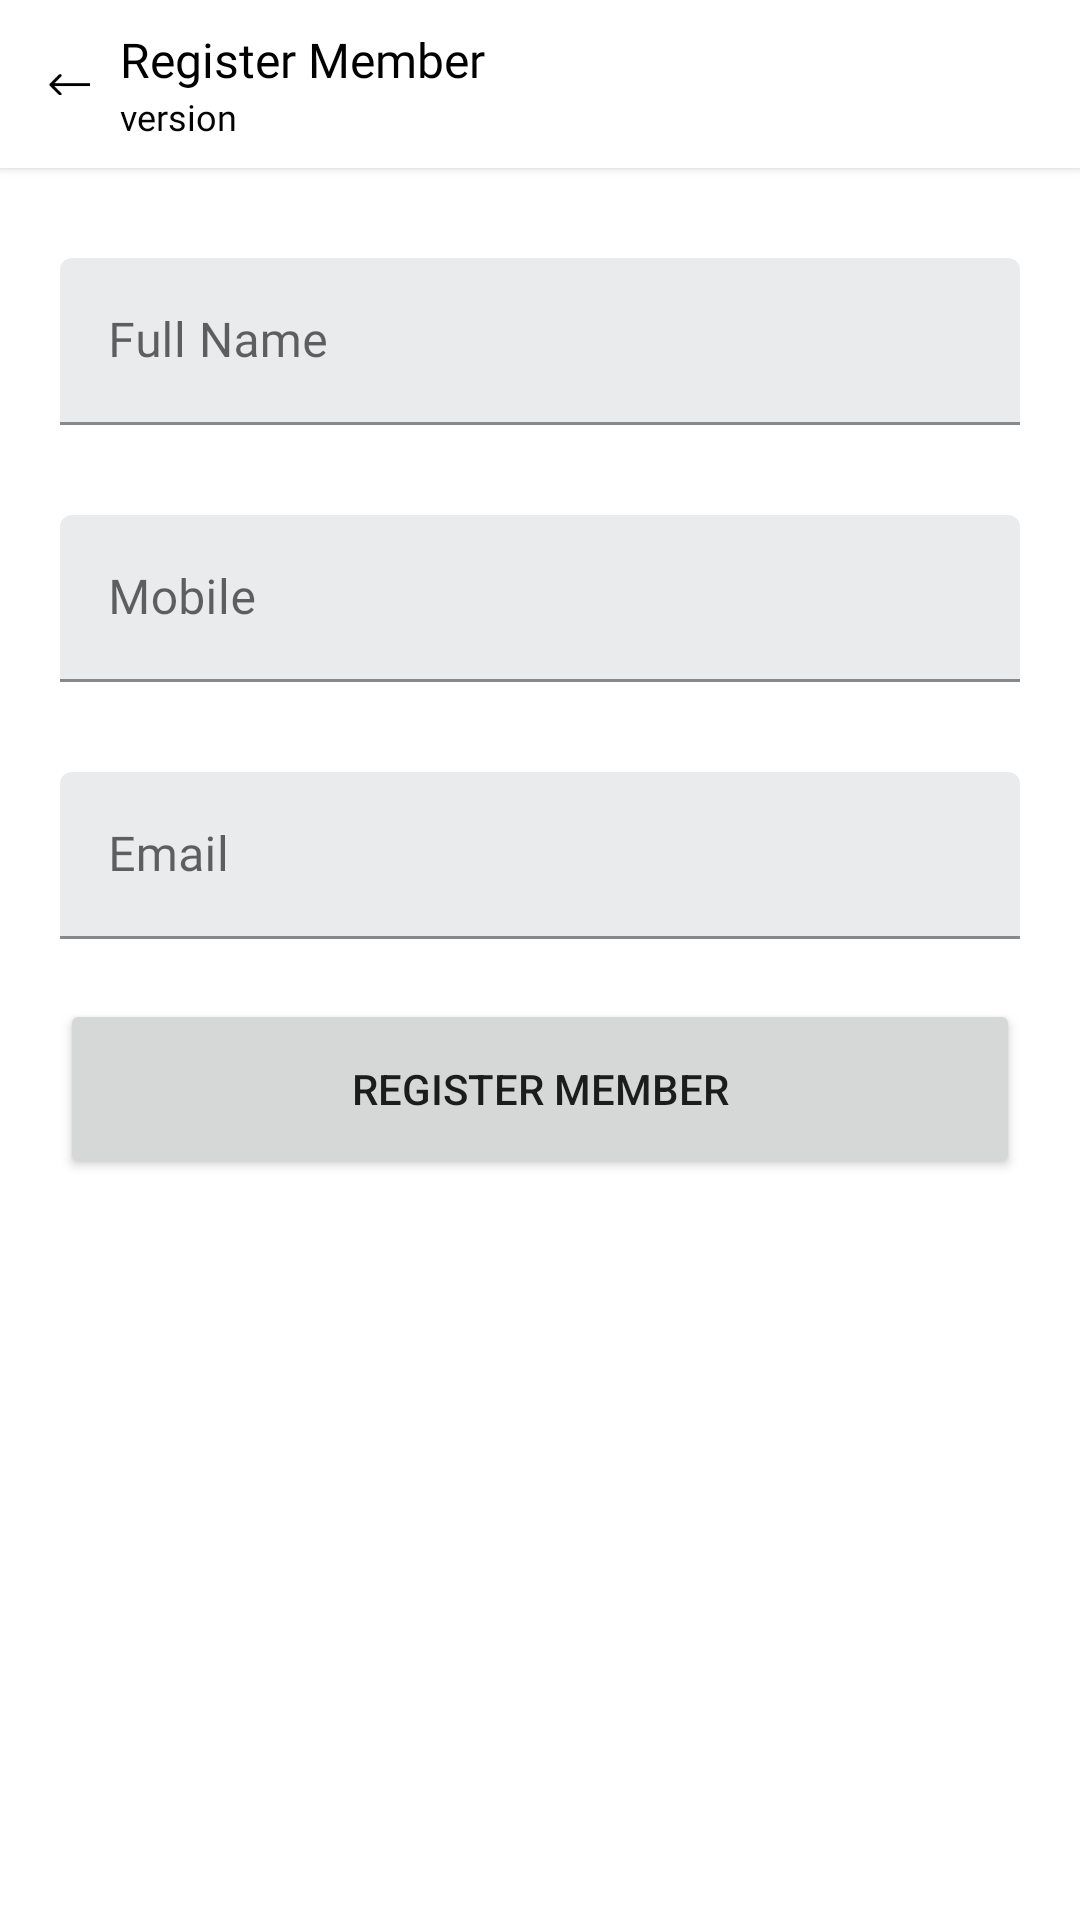

Screen size 1080w x 1920h. Icon name, then its center in pixels as [x,y]:
back arrow: [69,84]
